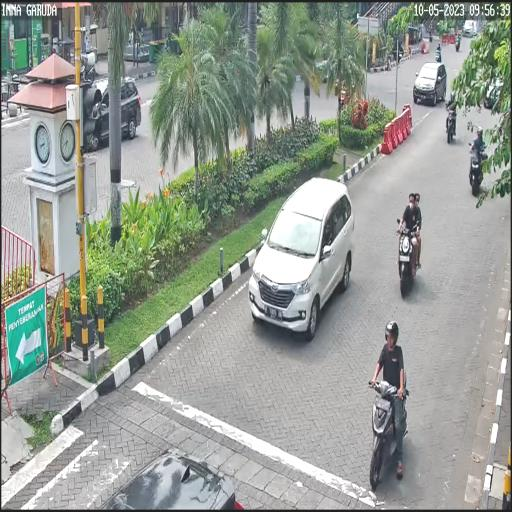mobil: (246, 176, 354, 344), (413, 63, 448, 108)
motor: (365, 378, 409, 497), (394, 213, 426, 301), (467, 135, 487, 197), (443, 100, 457, 142)
